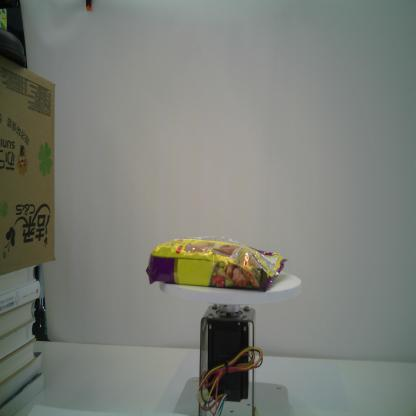Instant Noodles: (145, 234, 291, 296)
